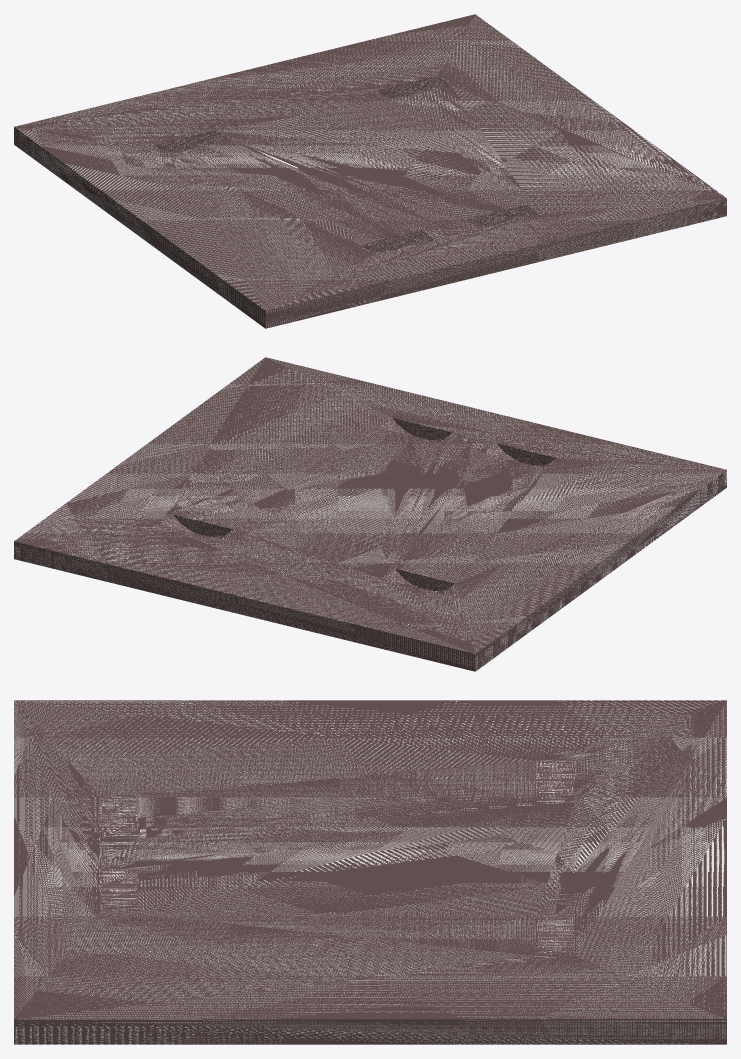
Rendered from original_8.obj.
3 views of the same model, one above another, from view 1: azimuth 30°, elevation 25°; view 2: azimuth 150°, elevation 25°; view 3: azimuth 270°, elevation 25° (orthographic). The views are drawn at different scales.
Visible parts, largest first — view 1: mesh16/mesh16-geometry#mesh16-geometry; view 2: mesh16/mesh16-geometry#mesh16-geometry; view 3: mesh16/mesh16-geometry#mesh16-geometry.
Boxes of the visible parts, box(x1,y1,x2,y2) form: mesh16/mesh16-geometry#mesh16-geometry: box(14, 14, 726, 328); mesh16/mesh16-geometry#mesh16-geometry: box(14, 357, 726, 671); mesh16/mesh16-geometry#mesh16-geometry: box(14, 700, 726, 1044).
Bounding box in the file's own units: 0.2983 × 0.011 × 0.2816.
